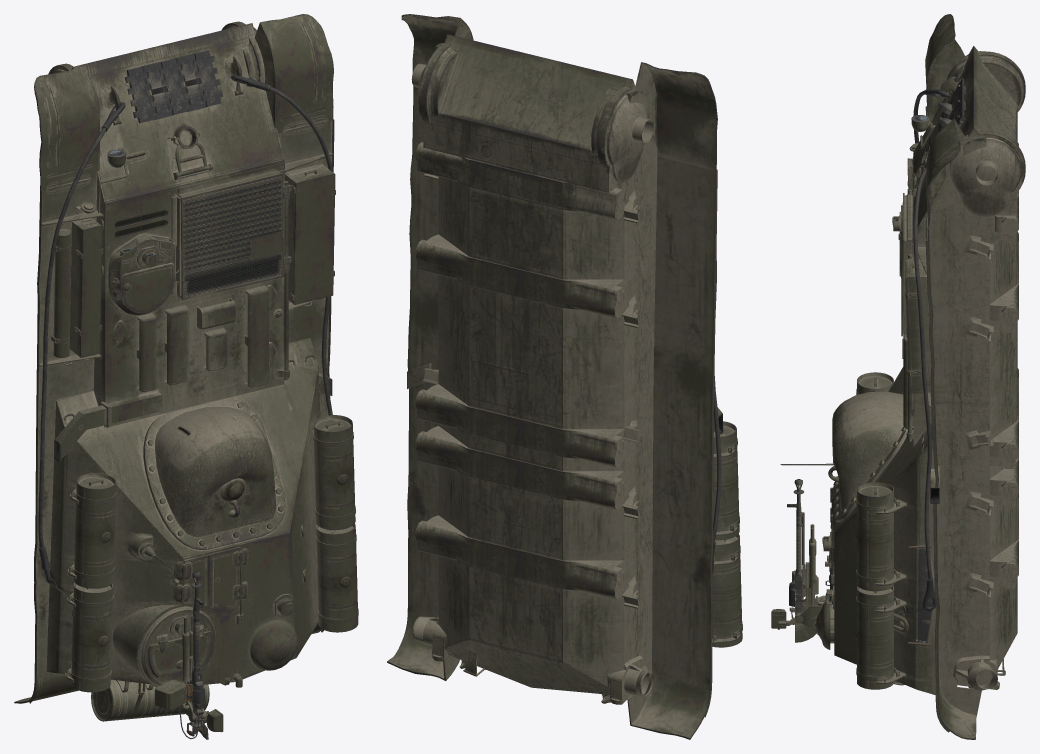
File: Hull.glb
3 views of the same model, side by side, from view 1: azimuth 30°, elevation 25°; view 2: azimuth 150°, elevation 25°; view 3: azimuth 270°, elevation 25° (orthographic). The views are drawn at different scales.
Visible parts, largest first — view 1: set_0_group_0; view 2: set_0_group_0; view 3: set_0_group_0.
Boxes of the visible parts, x1,y1,x2,y2 form: set_0_group_0: [14, 14, 358, 739]; set_0_group_0: [387, 14, 742, 739]; set_0_group_0: [771, 14, 1025, 739].
Size of the model in its own units: 3.12 by 6.47 by 2.45.
Materials: 1 (1 with a texture image).
